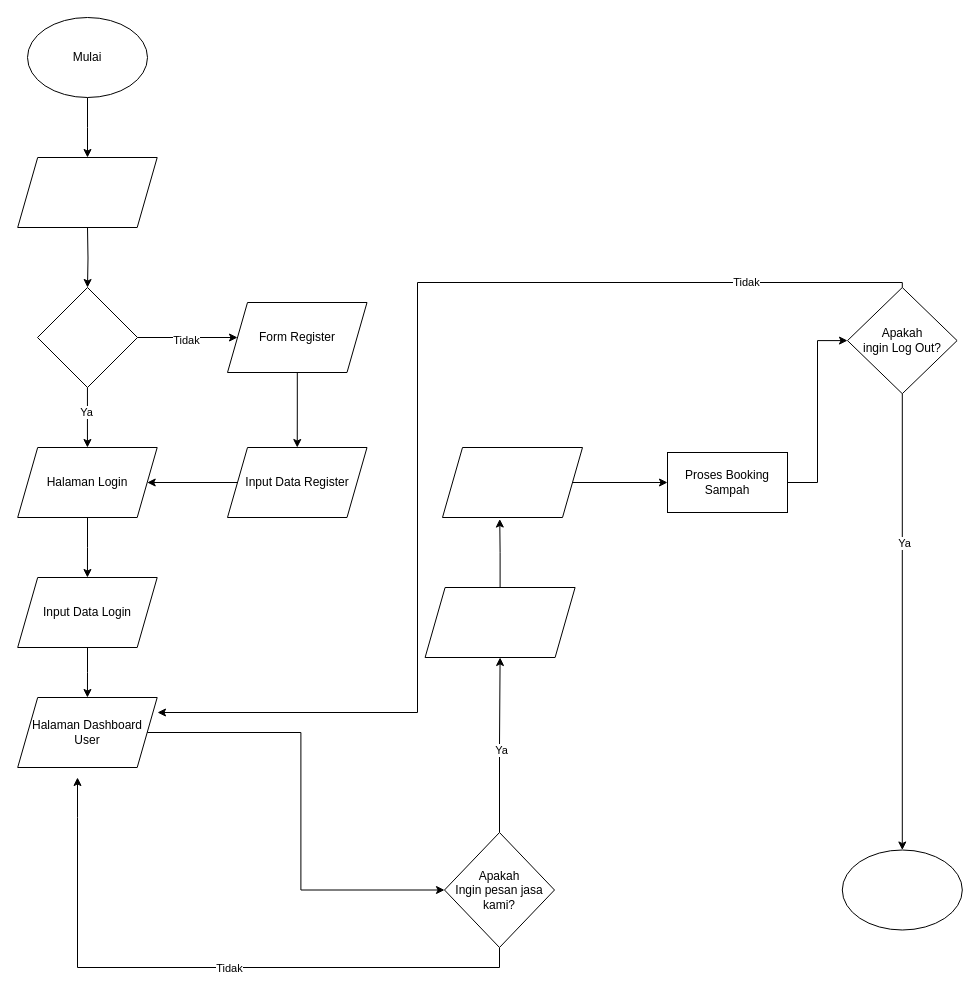
This 980x993 diagram has some shape labels left out. The shapes that lost their labels are listed below. From the top down, each one's centre as x and y in pixels, then its label:
At point 87,192: "Halaman Landing Page".
At point 87,337: "Sudah Punya Akun?".
At point 512,482: "Input Data Pemesanan".
At point 499,622: "Halaman Form Pemesanan".
At point 901,889: "Selesai".
